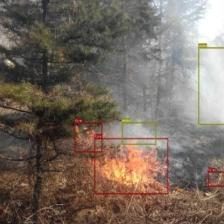fire: (94, 138, 168, 194), (74, 122, 103, 152), (207, 171, 224, 187)
smoke: (198, 47, 224, 125), (122, 122, 156, 144)
